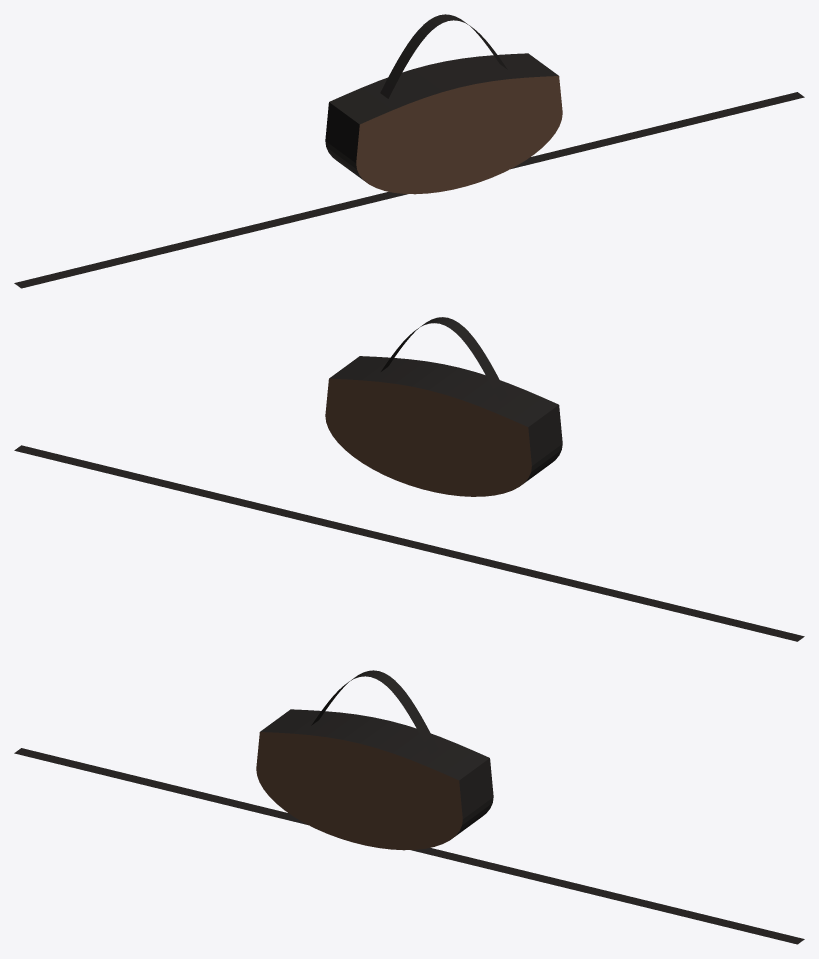
The model's file is CrescentDemo_prepped.glb.
3 views of the same model, one above another, from view 1: azimuth 30°, elevation 25°; view 2: azimuth 150°, elevation 25°; view 3: azimuth 330°, elevation 25° (orthographic).
Parts seen in each view (by area): view 1: CrescentBody, CrossbodyStrap, ShoulderStrap; view 2: CrescentBody, CrossbodyStrap, ShoulderStrap; view 3: CrescentBody, CrossbodyStrap, ShoulderStrap.
Part boxes in pixels (x1=…): CrescentBody: x1=325, y1=53, x2=562, y2=194; CrossbodyStrap: x1=14, y1=92, x2=804, y2=288; ShoulderStrap: x1=380, y1=14, x2=507, y2=98; CrescentBody: x1=325, y1=356, x2=562, y2=496; CrossbodyStrap: x1=14, y1=445, x2=804, y2=641; ShoulderStrap: x1=381, y1=317, x2=507, y2=401; CrescentBody: x1=256, y1=709, x2=493, y2=850; CrossbodyStrap: x1=14, y1=748, x2=804, y2=944; ShoulderStrap: x1=311, y1=670, x2=438, y2=754.
Size of the model in its own units: 1.1 by 0.2649 by 0.1305.
